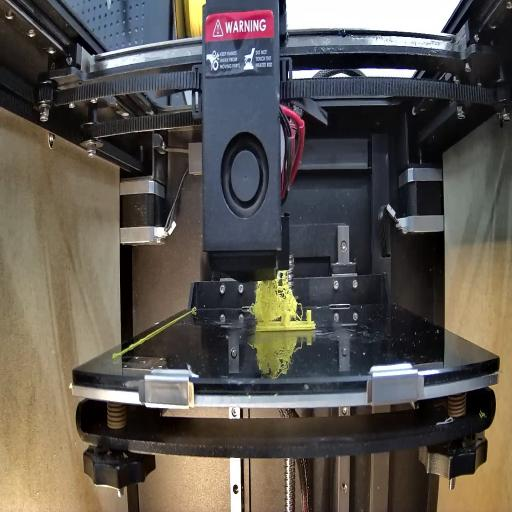spaghetti: (251, 272, 303, 324)
